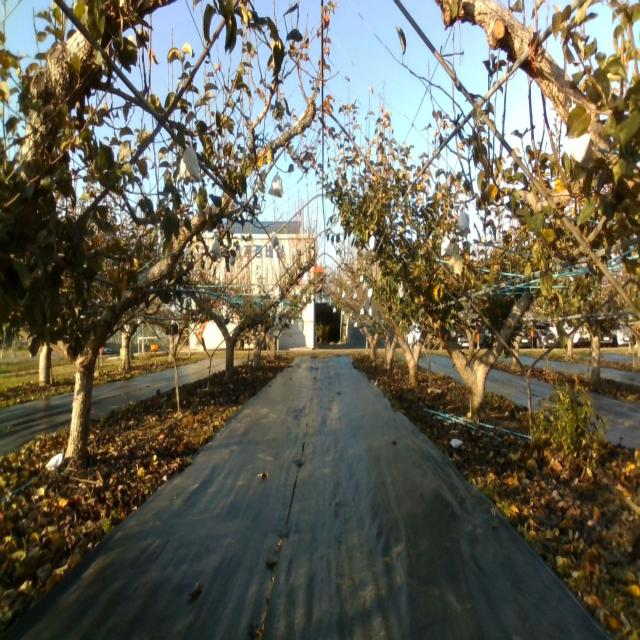pearbags: (564, 124, 590, 164), (178, 142, 202, 181), (268, 171, 284, 198), (209, 238, 222, 260), (458, 212, 469, 238), (440, 236, 451, 257)
